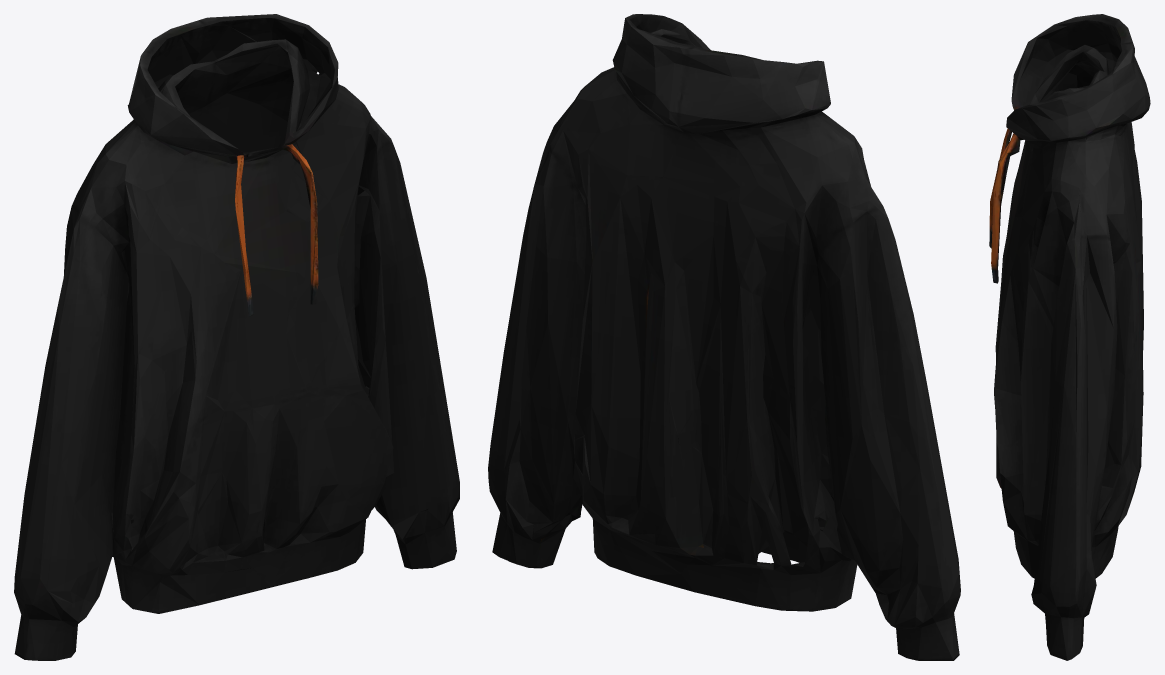
3 views of the same model, side by side, from view 1: azimuth 30°, elevation 25°; view 2: azimuth 150°, elevation 25°; view 3: azimuth 270°, elevation 25° (orthographic). The views are drawn at different scales.
Parts seen in each view (by area): view 1: geometry_0; view 2: geometry_0; view 3: geometry_0.
Part boxes in pixels (x1,y1,x2,y2): geometry_0: [14, 14, 459, 660]; geometry_0: [488, 14, 960, 660]; geometry_0: [989, 14, 1150, 660].
Bounding box in the file's own units: 0.8205 × 0.9967 × 0.2802.
1 material, 1 textured.
